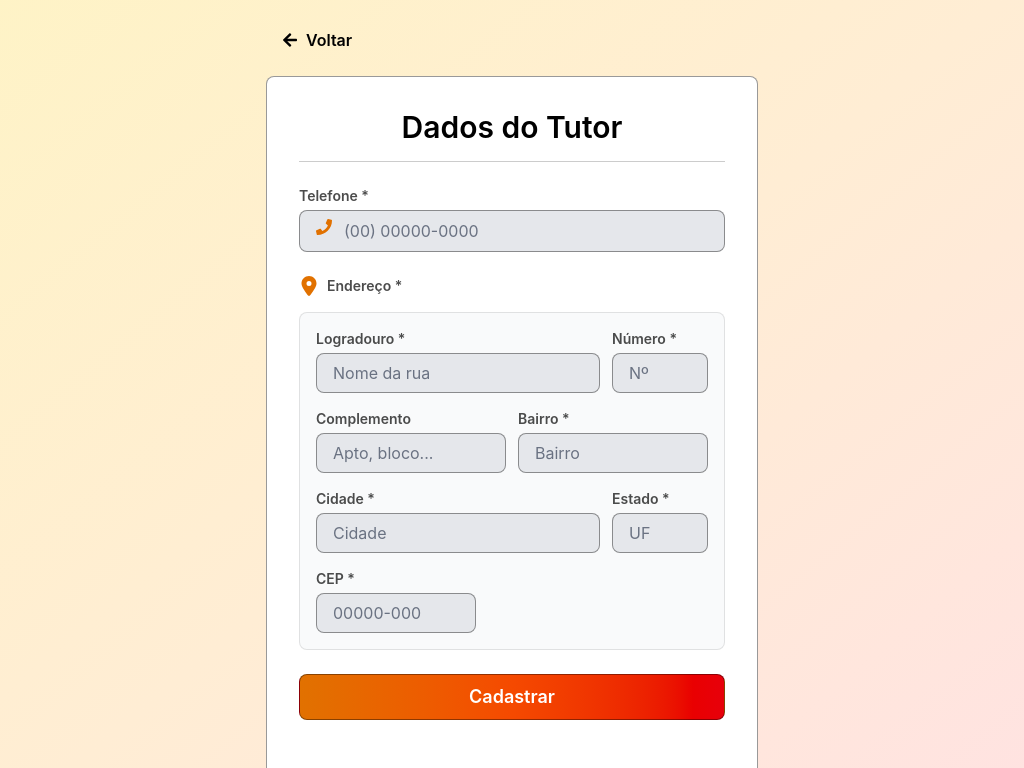
Test case: shows error when phone is empty
The image size is (1024, 768).
Click the button "Cadastrar": (512, 697) [299,674,725,720]
(page scrolled)
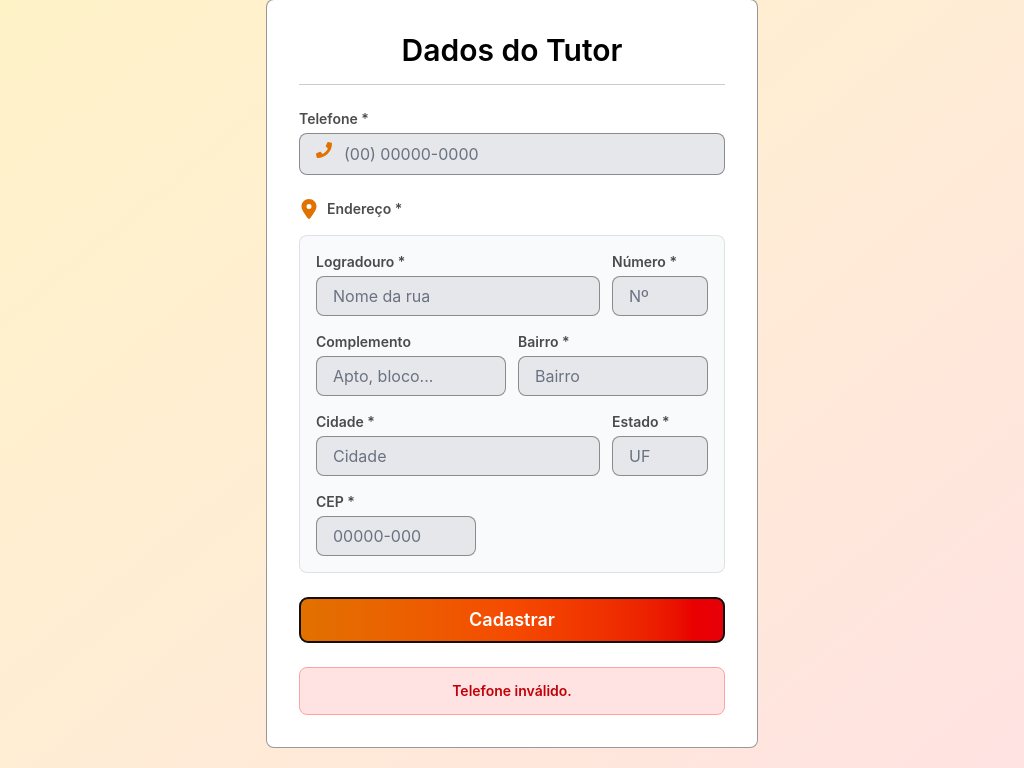
Check: the text "Telefone inválido." is shown, box [299,667,725,715]
